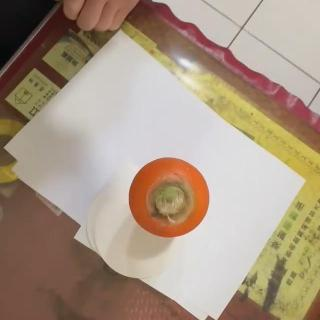carrot: (129, 156, 210, 240)
